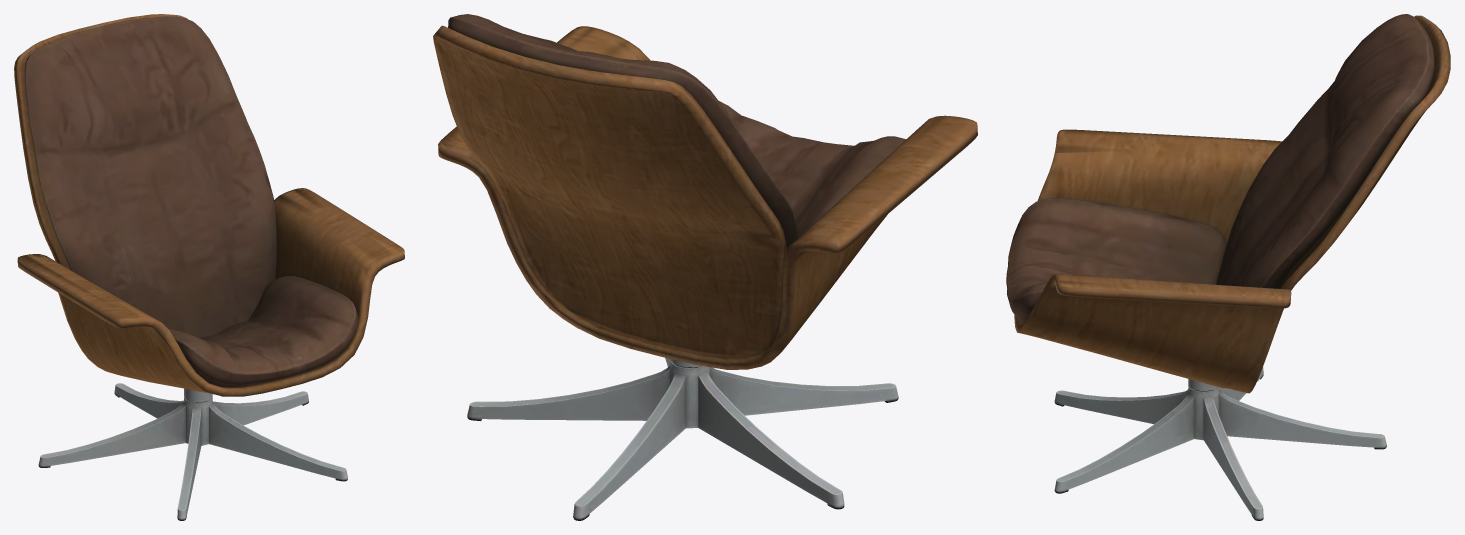
File: mid_century_lounge_chair.glb
The picture shows the model from 3 angles, left to right: view 1: azimuth 30°, elevation 25°; view 2: azimuth 150°, elevation 25°; view 3: azimuth 270°, elevation 25°; orthographic projection. The views are drawn at different scales.
Parts seen in each view (by area): view 1: mid_century_lounge_chair; view 2: mid_century_lounge_chair; view 3: mid_century_lounge_chair.
Part boxes in pixels (bbox=[...]): mid_century_lounge_chair: bbox=[14, 14, 404, 520]; mid_century_lounge_chair: bbox=[433, 14, 977, 520]; mid_century_lounge_chair: bbox=[1006, 14, 1450, 520].
Bounding box in the file's own units: 1.01 × 1.17 × 1.19.
Materials: 1 (1 with a texture image).
